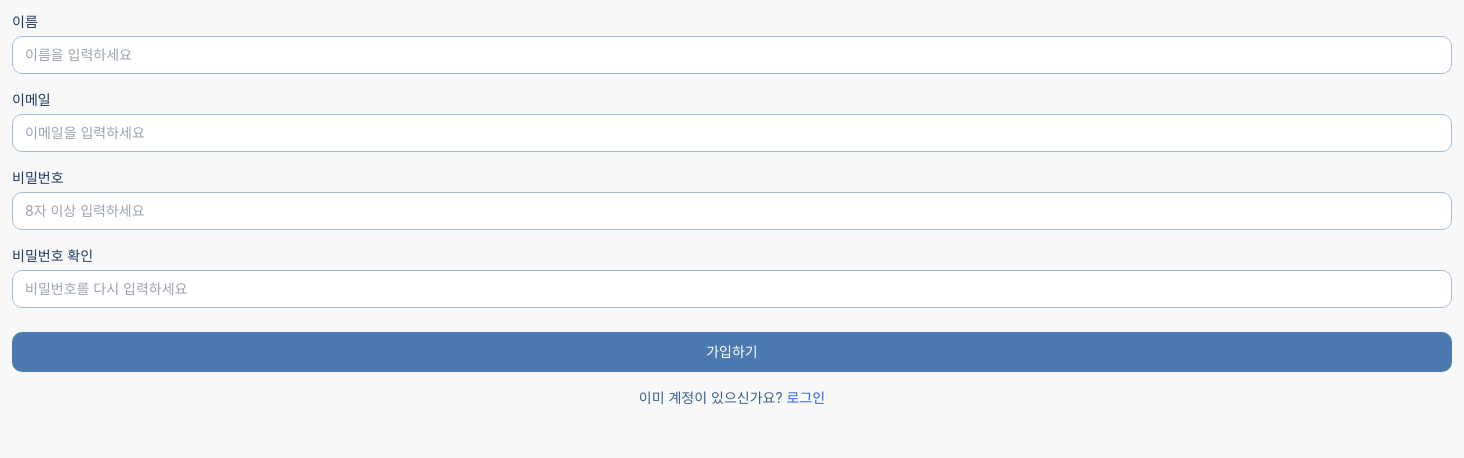
SignupForm › API 에러 처리 › EMAIL_ALREADY_EXISTS 에러 시 폼 레벨 에러 메시지를 표시한다
This screenshot has width=1464, height=458.
Type "홍길동" into the field labelled "이름".
click(732, 55); type("홍길동")  # box x1=12 y1=36 x2=1452 y2=74
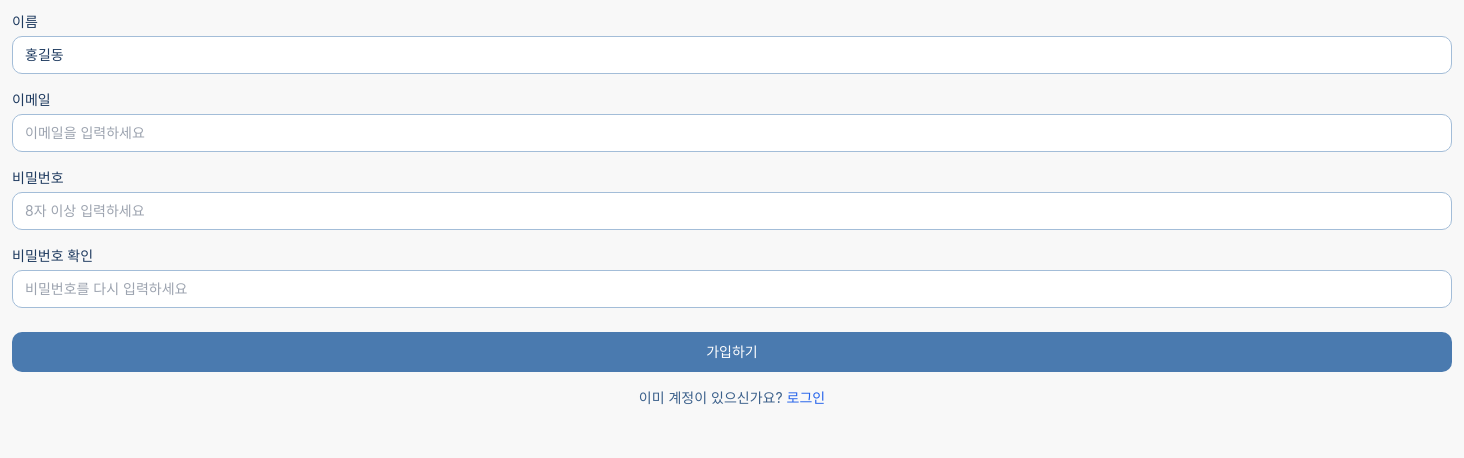
Type "dup@test.com" into the field labelled "이메일".
click(732, 133); type("dup@test.com")  # box x1=12 y1=114 x2=1452 y2=152
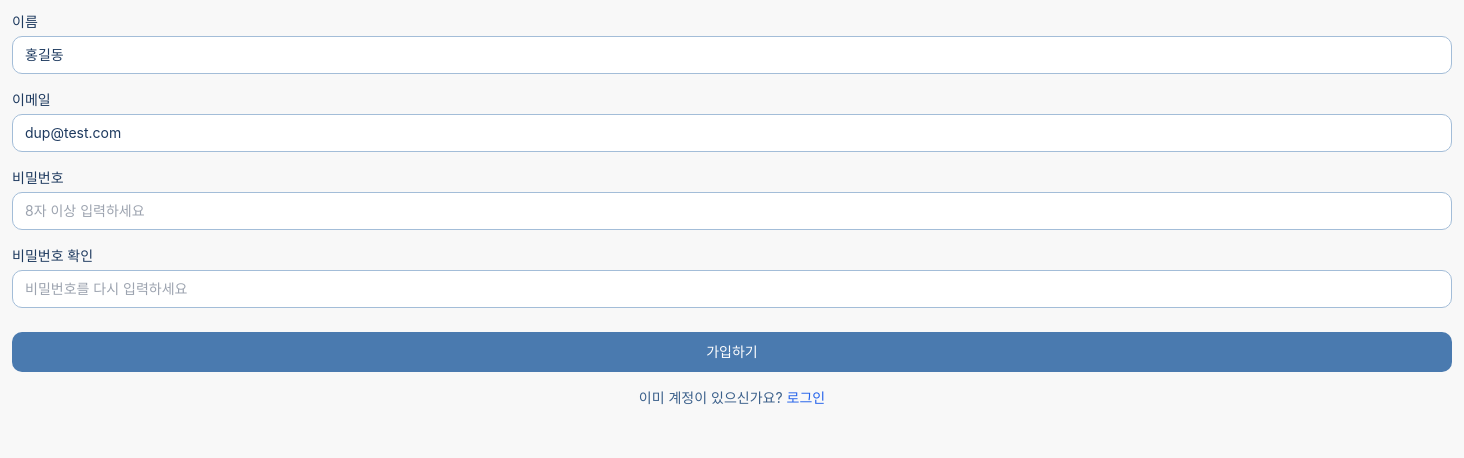
Type "password123" into the password field labelled "비밀번호".
click(732, 211); type("password123")  # box x1=12 y1=192 x2=1452 y2=230
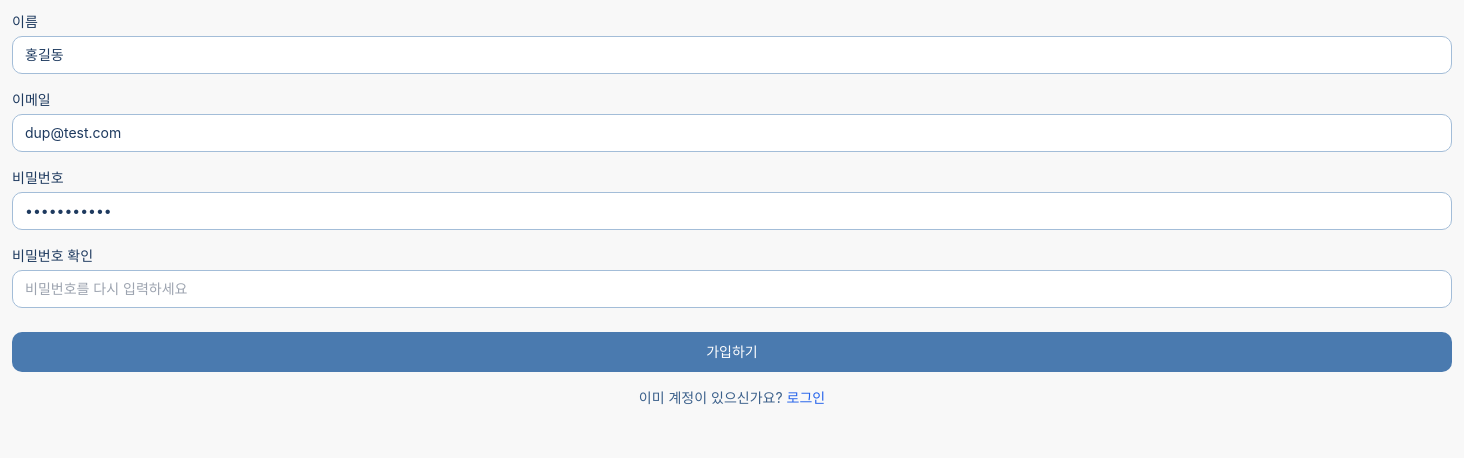
Type "password123" into the password field labelled "비밀번호 확인".
click(732, 289); type("password123")  # box x1=12 y1=270 x2=1452 y2=308
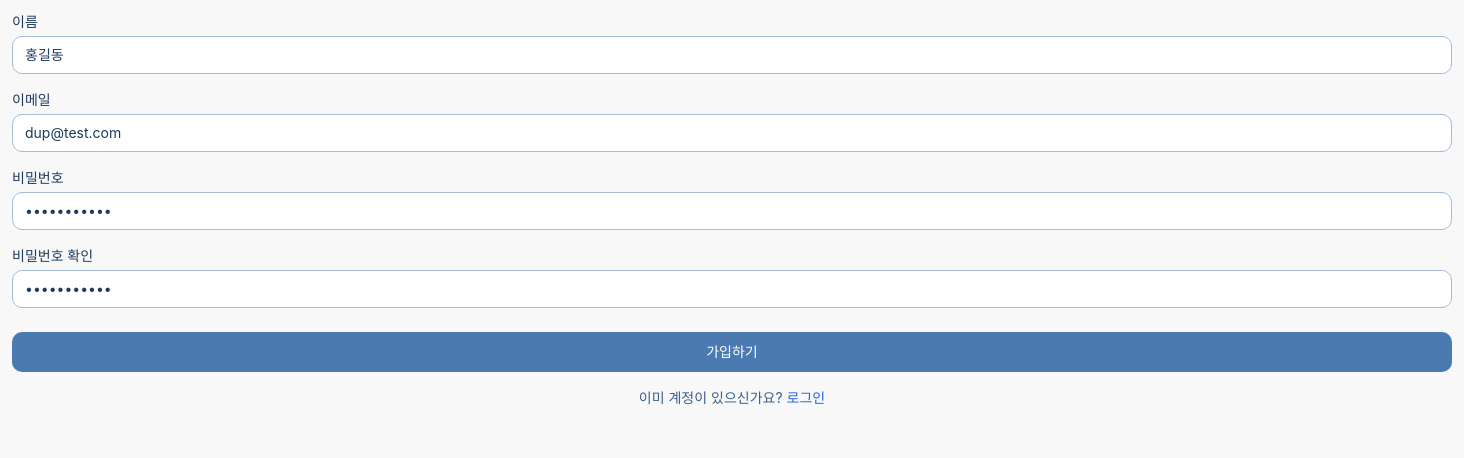
Click the button "가입하기".
click(732, 352)  # box x1=12 y1=332 x2=1452 y2=372
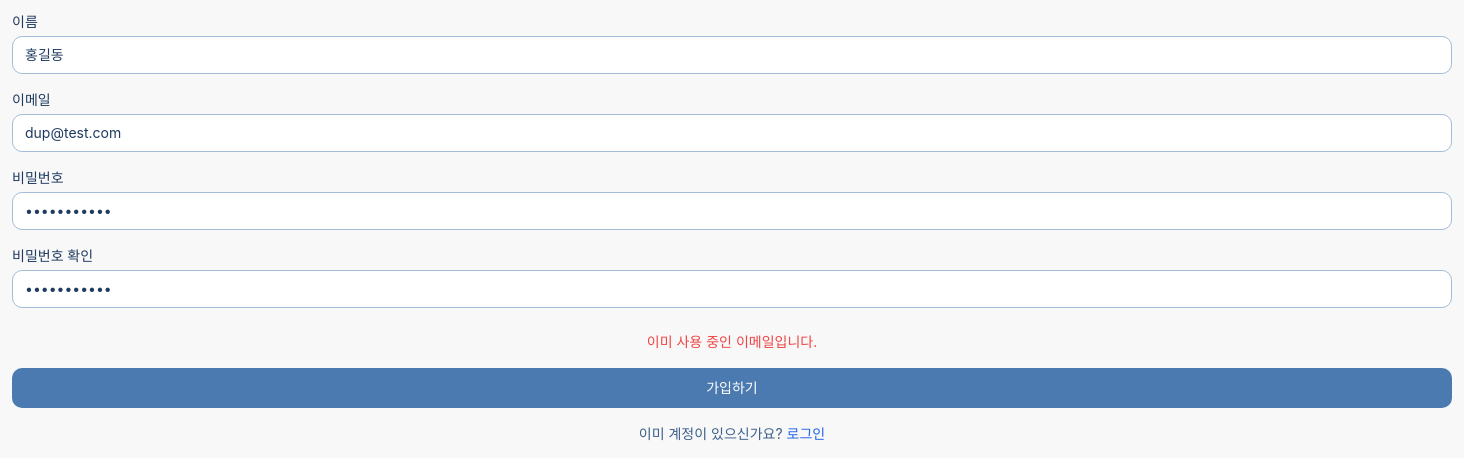
Now the text "이미 사용 중인 이메일입니다." is shown, box x1=647 y1=333 x2=817 y2=350
